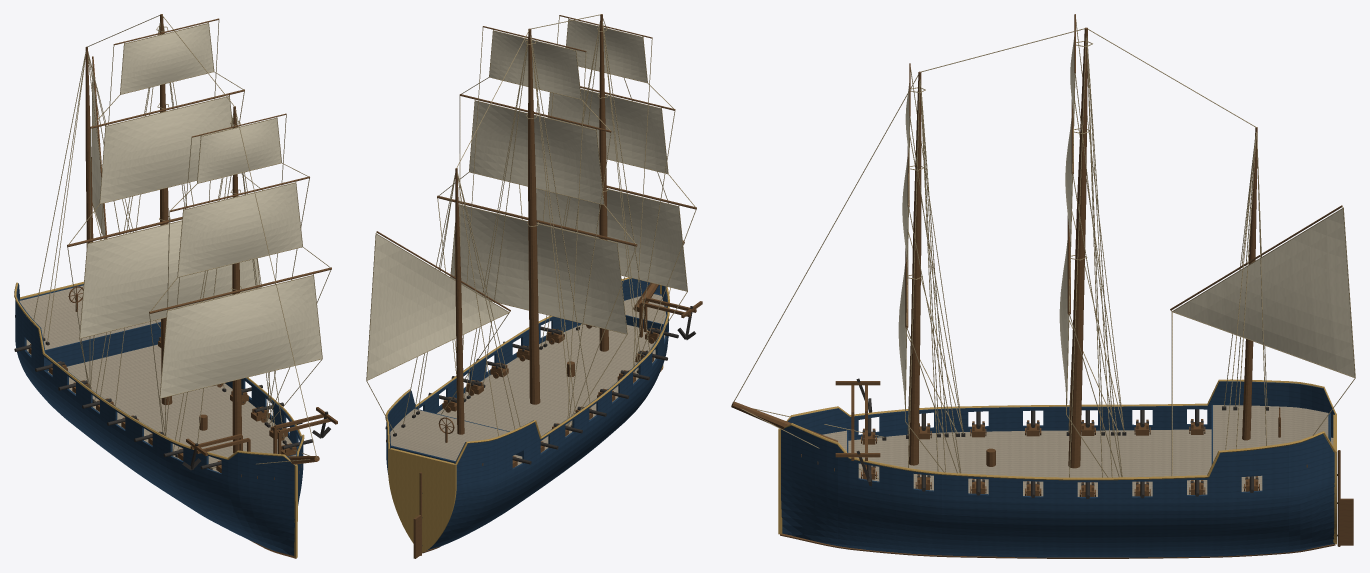
The model's file is ship.glb.
3 views of the same model, side by side, from view 1: azimuth 30°, elevation 25°; view 2: azimuth 150°, elevation 25°; view 3: azimuth 270°, elevation 25° (orthographic). The views are drawn at different scales.
Parts seen in each view (by area): view 1: hull_shell_starboard, fore_square_00, main_square_00, main_deck, main_square_01, fore_square_01, main_square_02, fore_square_02, castle_deck_0, castle_bulkhead_0_1, hull_shell_port, mizzen (+7 smaller); view 2: main_square_00, hull_shell_starboard, main_deck, mizzen_lateen_00, main_square_01, fore_square_00, fore_square_01, stern_closure, main_square_02, castle_deck_0, fore_square_02, main (+16 smaller); view 3: hull_shell_port, mizzen_lateen_00, main_deck, hull_shell_starboard, main, castle_deck_0, fore, gunwale_port, mizzen, gunwale_starboard, keel, main_square_00.
Boxes of the visible parts, <box> form: hull_shell_starboard: <box>15,283,294,555</box>; fore_square_00: <box>160,276,321,397</box>; main_square_00: <box>80,221,259,337</box>; main_deck: <box>26,339,292,472</box>; main_square_01: <box>100,96,232,203</box>; fore_square_01: <box>178,183,302,276</box>; main_square_02: <box>120,23,213,93</box>; fore_square_02: <box>197,118,281,182</box>; castle_deck_0: <box>19,285,160,349</box>; castle_bulkhead_0_1: <box>45,322,160,371</box>; hull_shell_port: <box>225,378,303,505</box>; mizzen: <box>85,47,93,247</box>; main_square_00: <box>451,205,626,333</box>; hull_shell_starboard: <box>426,285,668,550</box>; main_deck: <box>437,324,665,466</box>; mizzen_lateen_00: <box>367,234,508,379</box>; main_square_01: <box>469,101,603,204</box>; fore_square_00: <box>536,188,687,290</box>; fore_square_01: <box>548,89,667,173</box>; stern_closure: <box>388,448,456,552</box>; main_square_02: <box>489,31,580,98</box>; castle_deck_0: <box>390,409,508,460</box>; fore_square_02: <box>566,19,647,82</box>; main: <box>528,28,540,404</box>; hull_shell_port: <box>781,425,1334,557</box>; mizzen_lateen_00: <box>1173,209,1354,377</box>; main_deck: <box>848,429,1333,496</box>; hull_shell_starboard: <box>787,381,1334,440</box>; main: <box>1068,27,1087,468</box>; castle_deck_0: <box>1213,405,1328,461</box>; fore: <box>908,71,921,465</box>; gunwale_port: <box>780,423,1336,480</box>; mizzen: <box>1242,127,1257,440</box>; gunwale_starboard: <box>786,379,1336,421</box>; keel: <box>780,533,1335,558</box>; main_square_00: <box>1059,240,1068,398</box>.
Size of the model in its own units: 13.03 by 28.52 by 30.4.
Materials: 7 (7 with a texture image).
